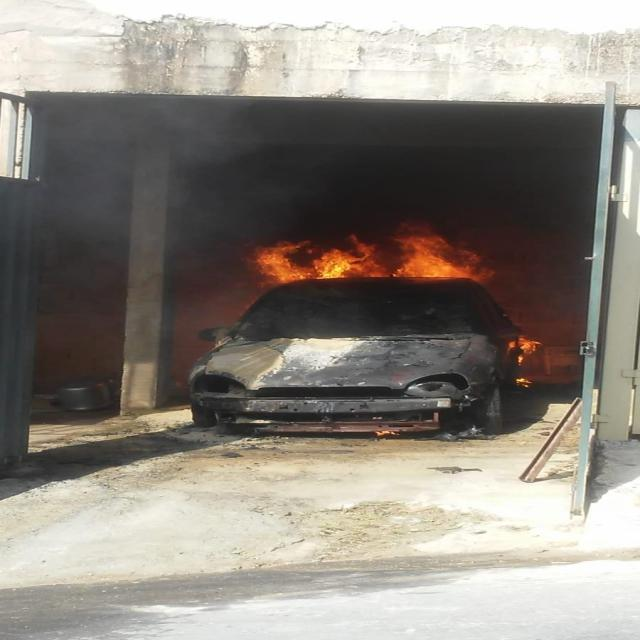Fire: (249, 217, 492, 284), (508, 332, 556, 361)
